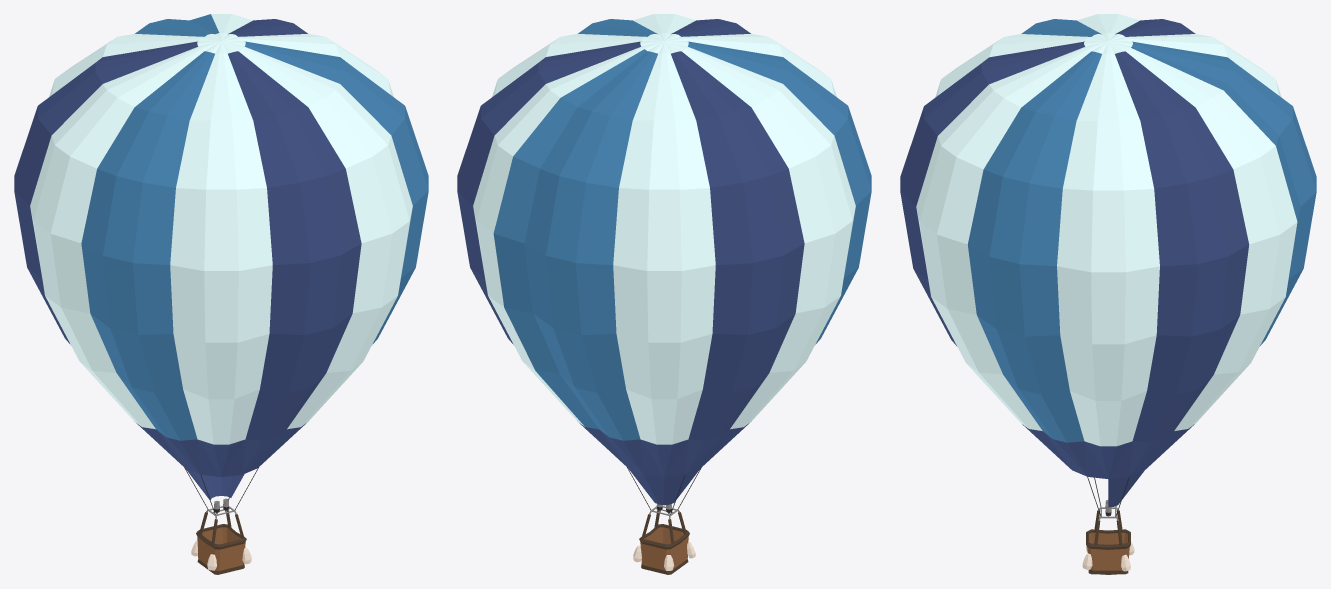
The model's file is balloon-stripes.glb.
The picture shows the model from 3 angles, left to right: view 1: azimuth 30°, elevation 25°; view 2: azimuth 150°, elevation 25°; view 3: azimuth 270°, elevation 25°; orthographic projection.
Parts seen in each view (by area): view 1: balloon-stripes; view 2: balloon-stripes; view 3: balloon-stripes.
Part boxes in pixels (x1,y1,x2,y2): balloon-stripes: (14,14,428,574); balloon-stripes: (457,14,871,574); balloon-stripes: (900,14,1316,574).
Size of the model in its own units: 16.03 by 22.43 by 16.03.
Materials: 1 (1 with a texture image).
